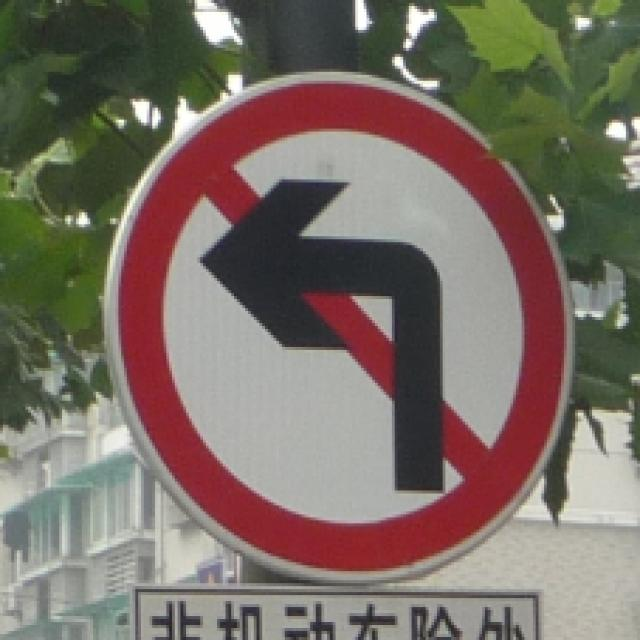Not that Direction: (113, 71, 580, 580)
